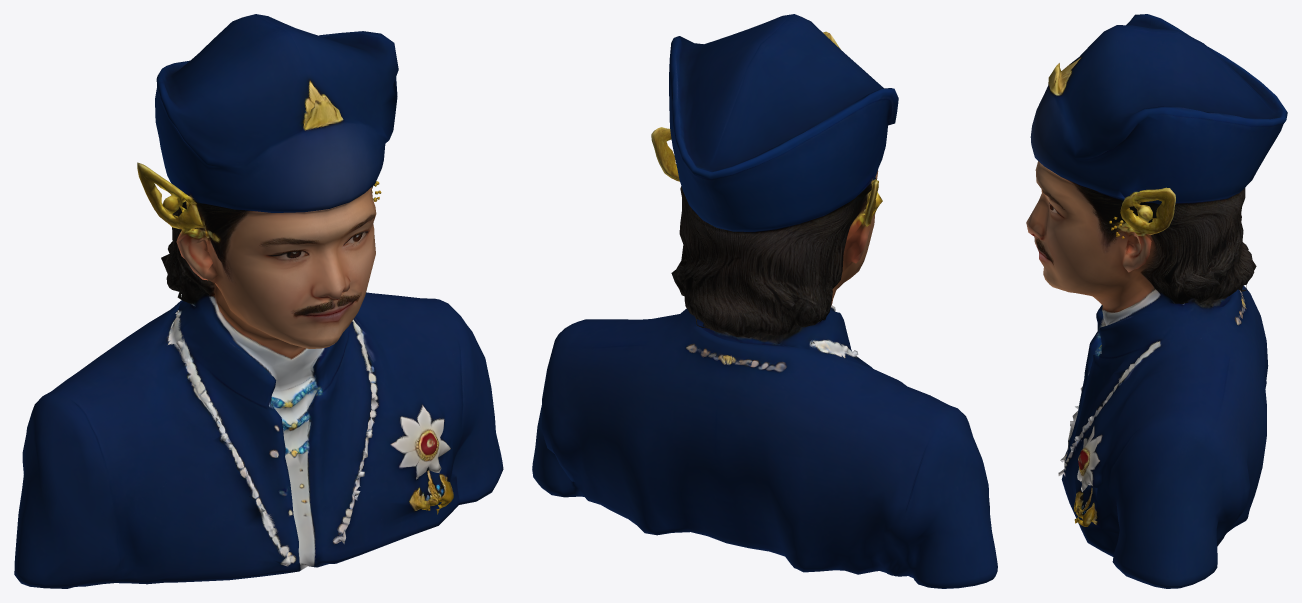
Rendered from sultanagung.glb.
3 renders of one model, left to right at view 1: azimuth 30°, elevation 25°; view 2: azimuth 150°, elevation 25°; view 3: azimuth 270°, elevation 25°, orthographic. The views are drawn at different scales.
Visible parts, largest first — view 1: model; view 2: model; view 3: model.
Boxes of the visible parts, x1,y1,x2,y2 form: model: [14, 14, 503, 588]; model: [532, 14, 997, 588]; model: [1026, 14, 1287, 588].
Bounding box in the file's own units: 1.86 × 1.9 × 0.9796.
1 material, 1 textured.
